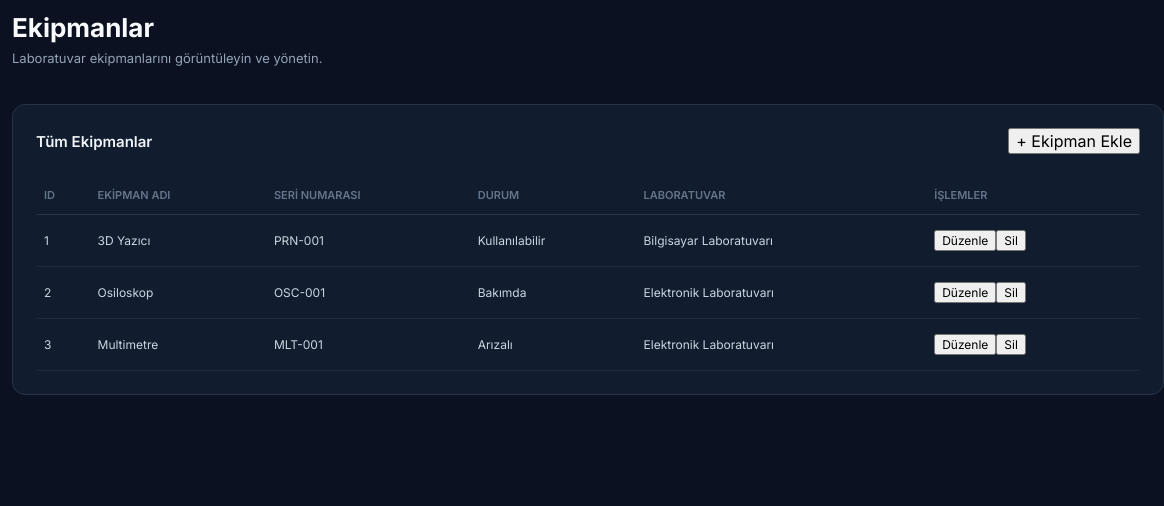
Equipment component › opens the create form with laboratory options
The width and height of the screenshot is (1164, 506).
Click the button "+ Ekipman Ekle": (1074, 141) [1008,128,1140,154]
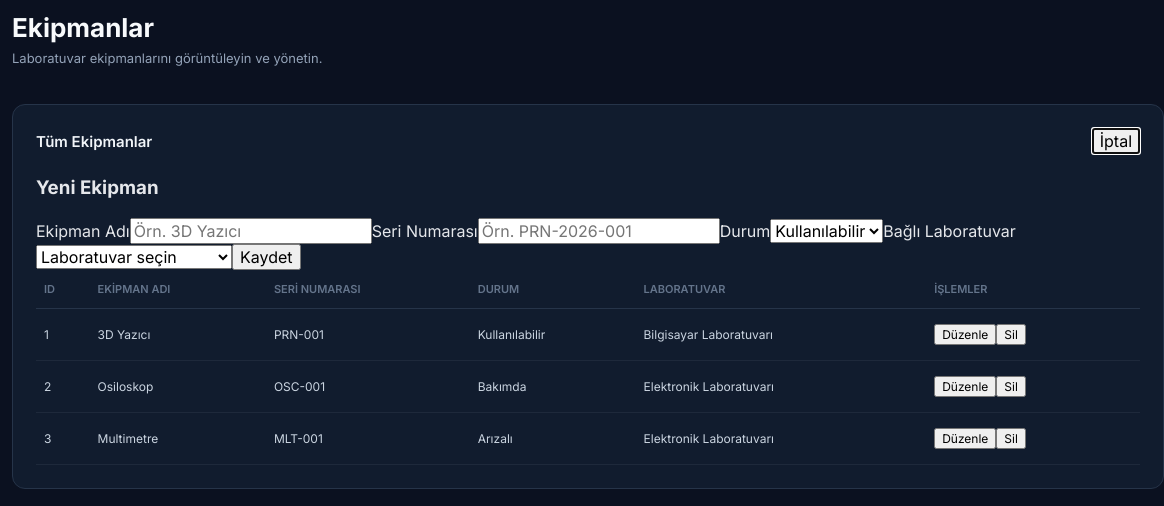
Now the heading "Yeni Ekipman" is shown, box [36,176,158,199]
Now the dropdown labelled "Durum" shows "Kullanılabilir", box [770,219,883,243]
